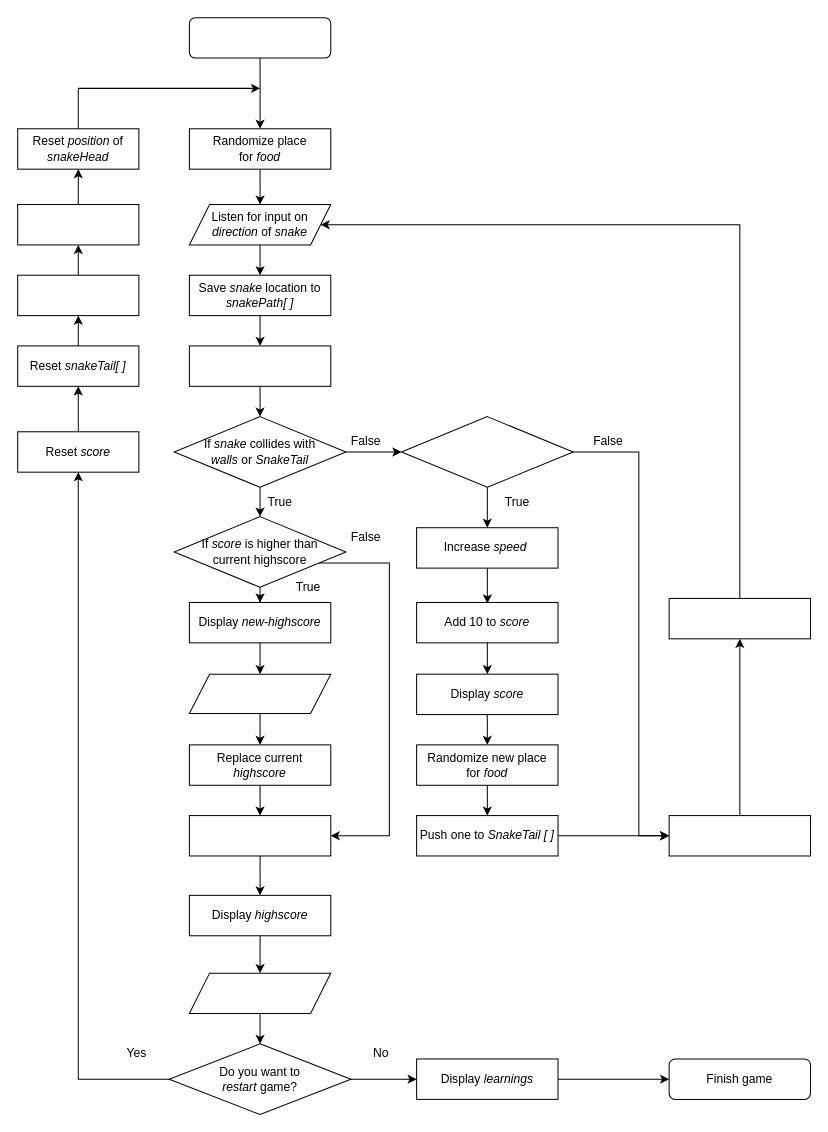
This 828x1132 diagram has some shape labels left out. The centre of each missing label's shape, as x and y in pixels:
Display game-over: pixel 259 835
For snakeTail [ i ] add values of snakePath[ i ]: pixel 739 835
If snake collides with food: pixel 486 451
Listen for input on button -click: pixel 259 993
Move snake in direction: pixel 259 365
Recieve name input: pixel 259 693
Reset snakePath[ ]: pixel 78 295
Reset speed: pixel 78 224
shift snakePath: pixel 739 618
Start game: pixel 259 37
